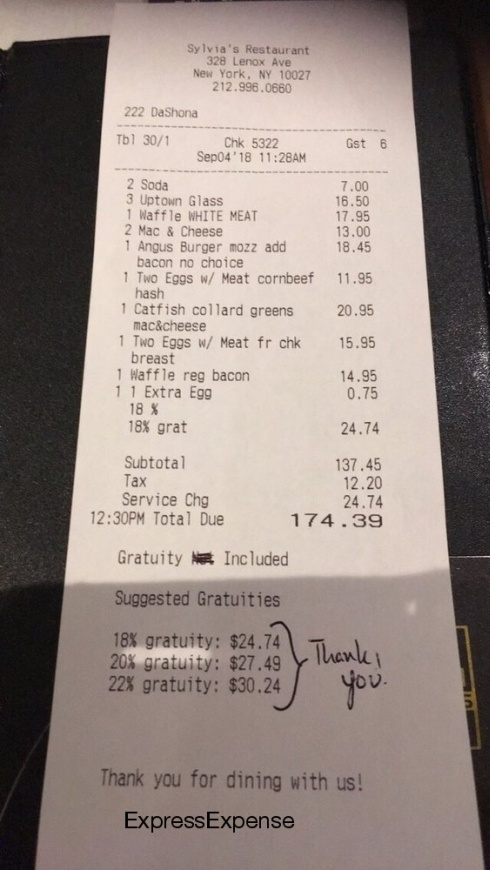Additional details: (101, 545, 399, 803)
Purchase summary: (83, 93, 397, 537)
Receipt: (31, 1, 483, 867)
Shop details: (177, 33, 329, 105)
